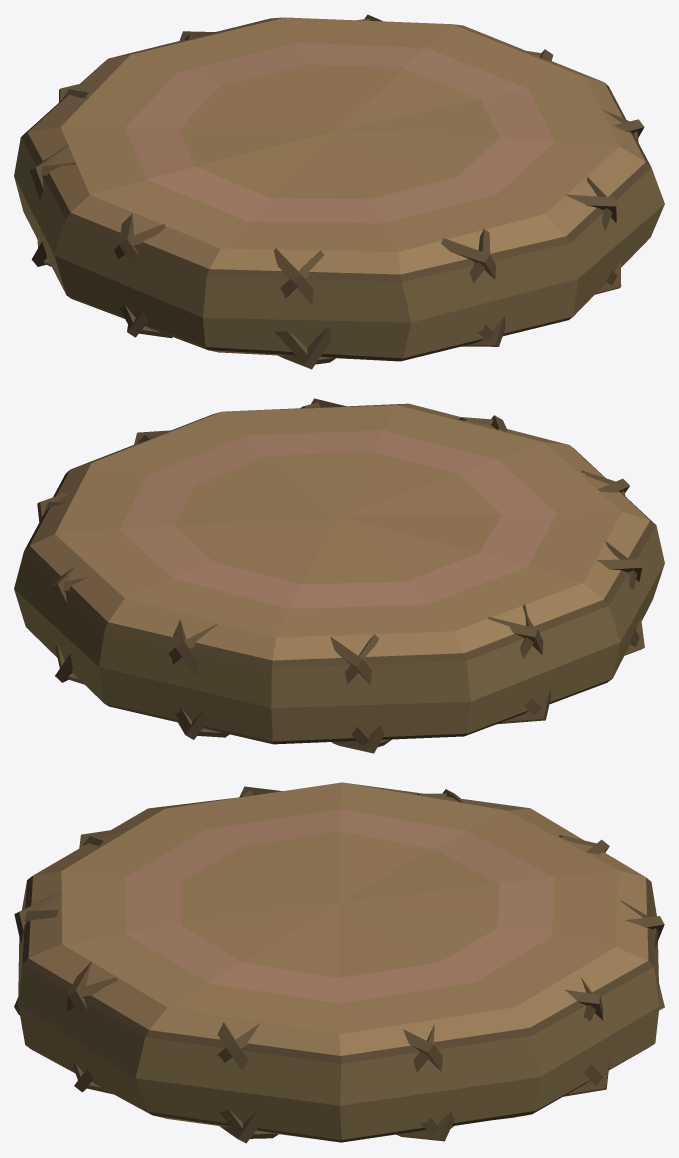
File: SM_Prop_Pillow_02V2.fbx
3 renders of one model, top to bottom at view 1: azimuth 30°, elevation 25°; view 2: azimuth 150°, elevation 25°; view 3: azimuth 270°, elevation 25°, orthographic. The views are drawn at different scales.
Parts seen in each view (by area): view 1: SM_Prop_Pillow_02V2; view 2: SM_Prop_Pillow_02V2; view 3: SM_Prop_Pillow_02V2.
Boxes of the visible parts, left/top/right/bottom form: SM_Prop_Pillow_02V2: left=14, top=14, right=664, bottom=369; SM_Prop_Pillow_02V2: left=14, top=398, right=664, bottom=753; SM_Prop_Pillow_02V2: left=14, top=782, right=664, bottom=1143.
Size of the model in its own units: 0.492 by 0.098 by 0.4756.
1 material, 1 textured.
